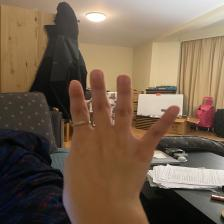four: (61, 66, 182, 218)
